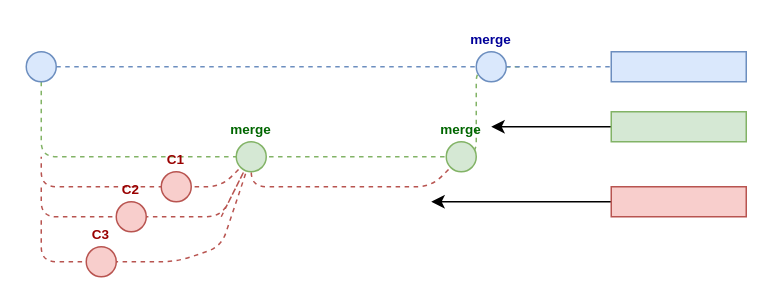
Image size: 773x303. Some labels were removed from this diagram. The shapes that lost their labels are listed below. From the top down, each one's centre as x and y in pixels, then its label:
At point (678, 66): "Master".
At point (678, 126): "develop".
At point (678, 201): "feature/#issue-name_issue".
